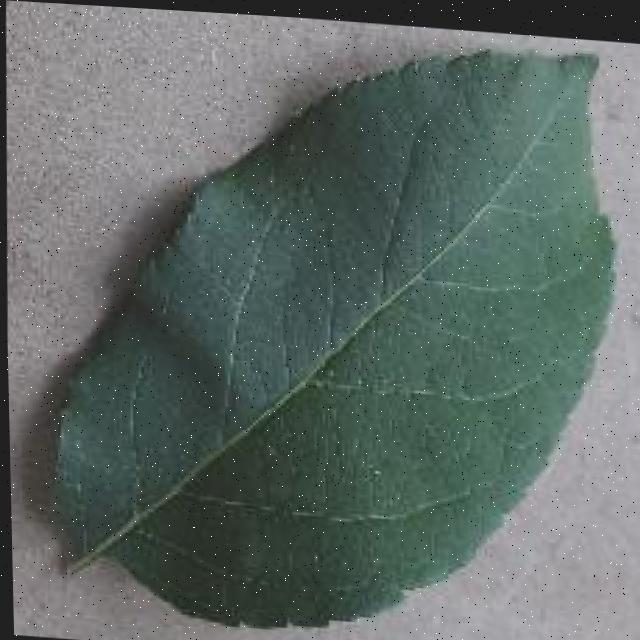healthy: (20, 1, 640, 640)
